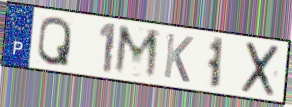1: (97, 22, 118, 76), (207, 35, 226, 92)
K: (161, 31, 195, 85)
M: (111, 23, 162, 82)
Q: (35, 15, 73, 68)
X: (239, 40, 282, 99)
